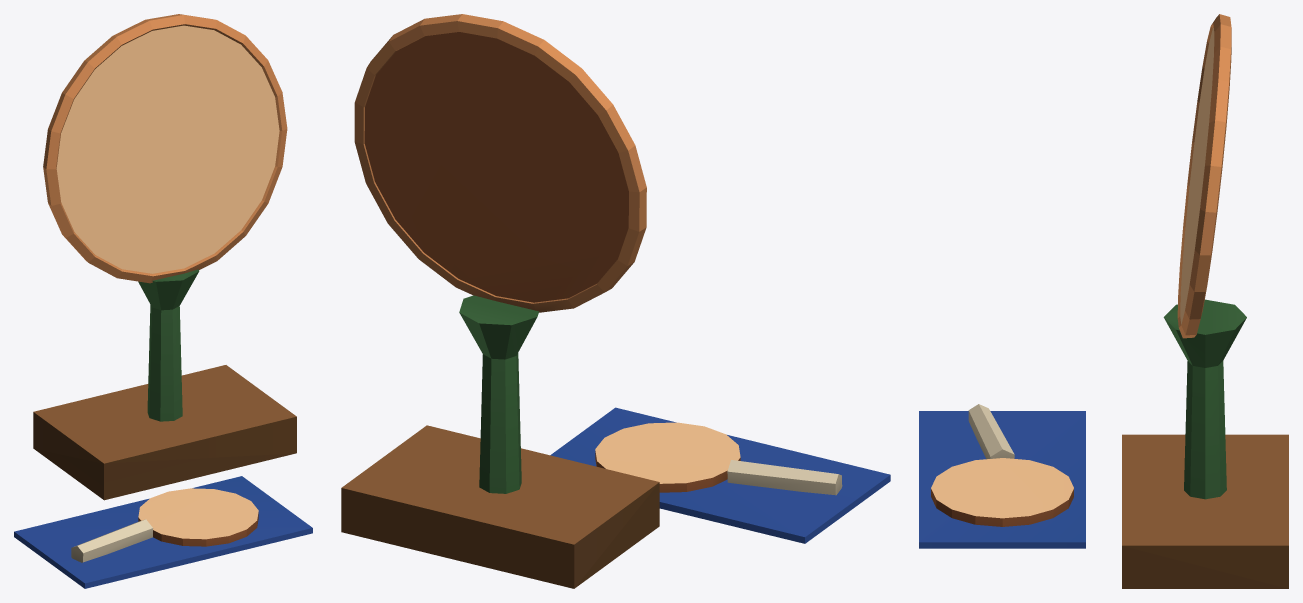
The picture shows the model from 3 angles, left to right: view 1: azimuth 30°, elevation 25°; view 2: azimuth 150°, elevation 25°; view 3: azimuth 270°, elevation 25°; orthographic projection. The views are drawn at different scales.
Visible parts, largest first — view 1: base; view 2: base; view 3: base.
Part boxes in pixels (left/top/right/bottom): base: left=14, top=14, right=312, bottom=588; base: left=341, top=14, right=890, bottom=588; base: left=919, top=14, right=1288, bottom=588.
Bounding box in the file's own units: 0.3669 × 0.4682 × 0.31.
